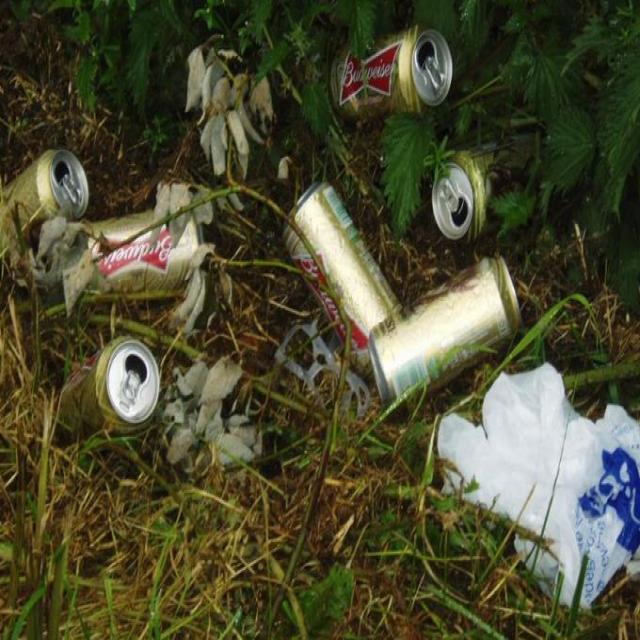dry: (432, 342, 640, 620), (346, 244, 554, 416), (282, 174, 408, 366), (52, 210, 227, 308), (56, 329, 167, 455), (2, 139, 94, 284), (428, 140, 548, 250), (330, 23, 455, 126)
